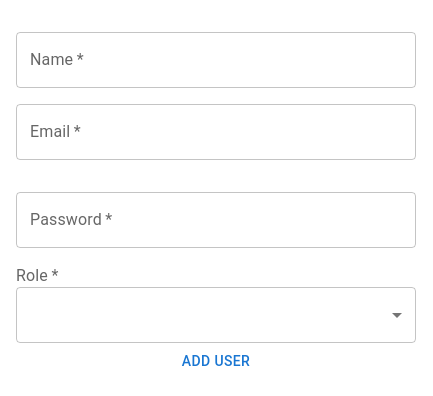
it: AddUserFormLeicht › displays email already exists error
The width and height of the screenshot is (433, 396).
Type "Jane Doe" into the field labelled "Name *".
click(216, 60); type("Jane Doe")  # box [16,32,416,88]
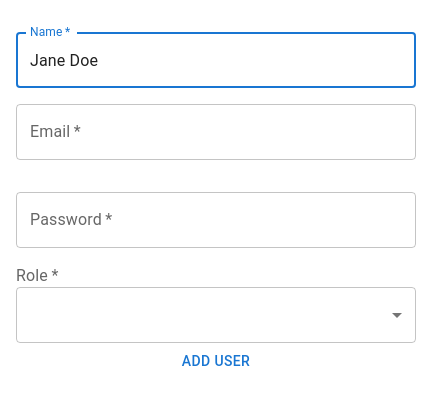
Type "john.doe@example.com" into the field labelled "Email *".
click(216, 132); type("john.doe@example.com")  # box [16,104,416,160]
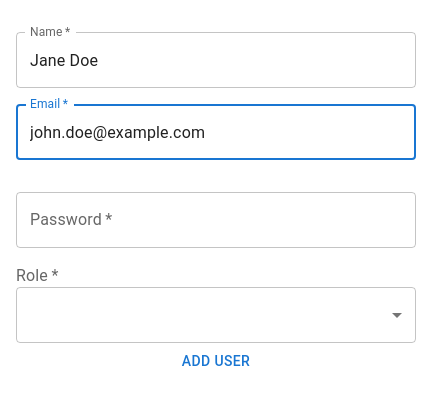
Type "Password123!" into the field labelled "Password *".
click(216, 220); type("Password123!")  # box [16,192,416,248]
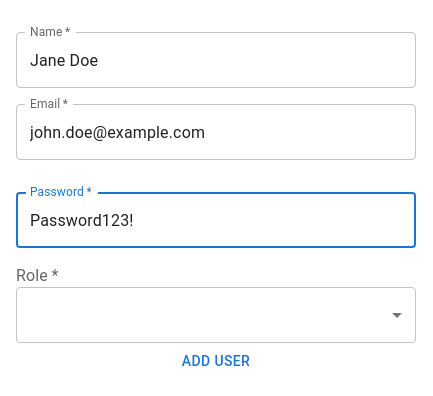
Click the button "Add User".
click(216, 362)  # box [16,343,416,380]
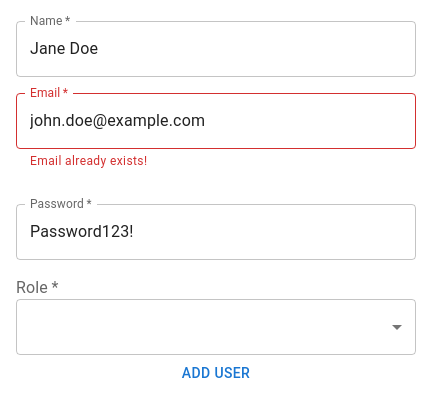
Check: the text "Email already exists!" is shown, box [30,154,147,168]
